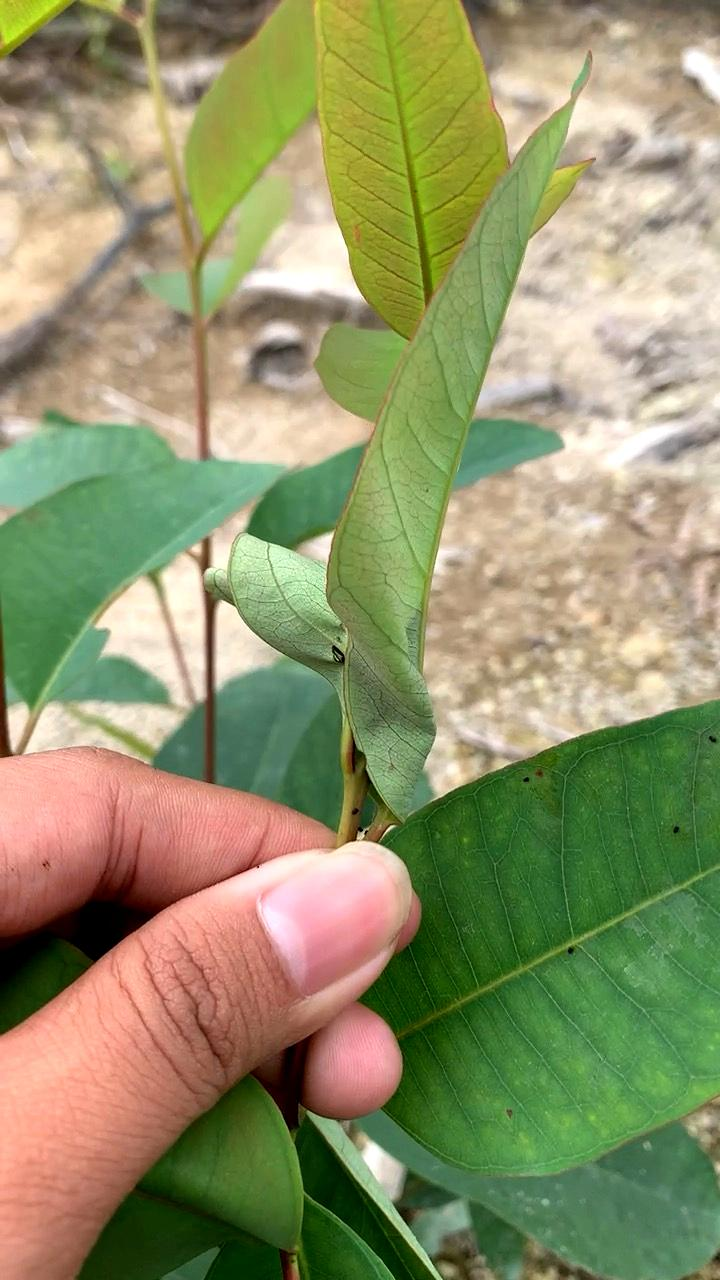Leaf Roller - Leaf: (166, 498, 463, 740)
